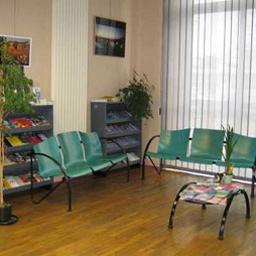Matera: (0, 59, 35, 222), (219, 123, 237, 187)
Ventana: (166, 1, 252, 179)
